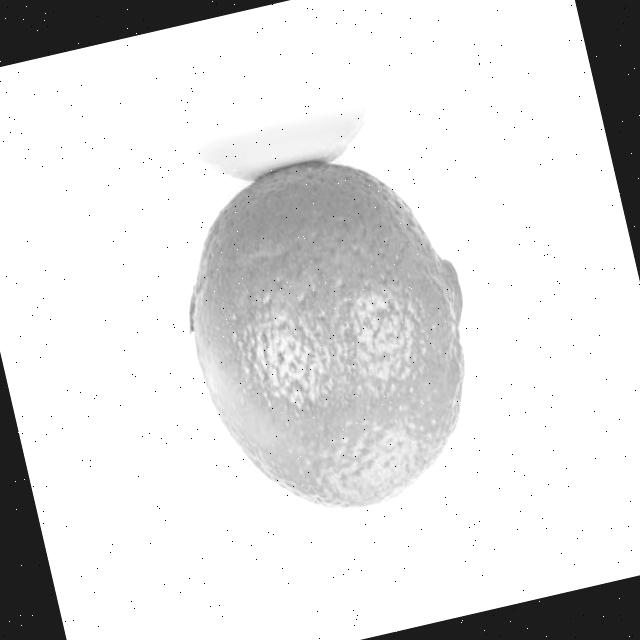Unripe: (158, 133, 505, 540)
